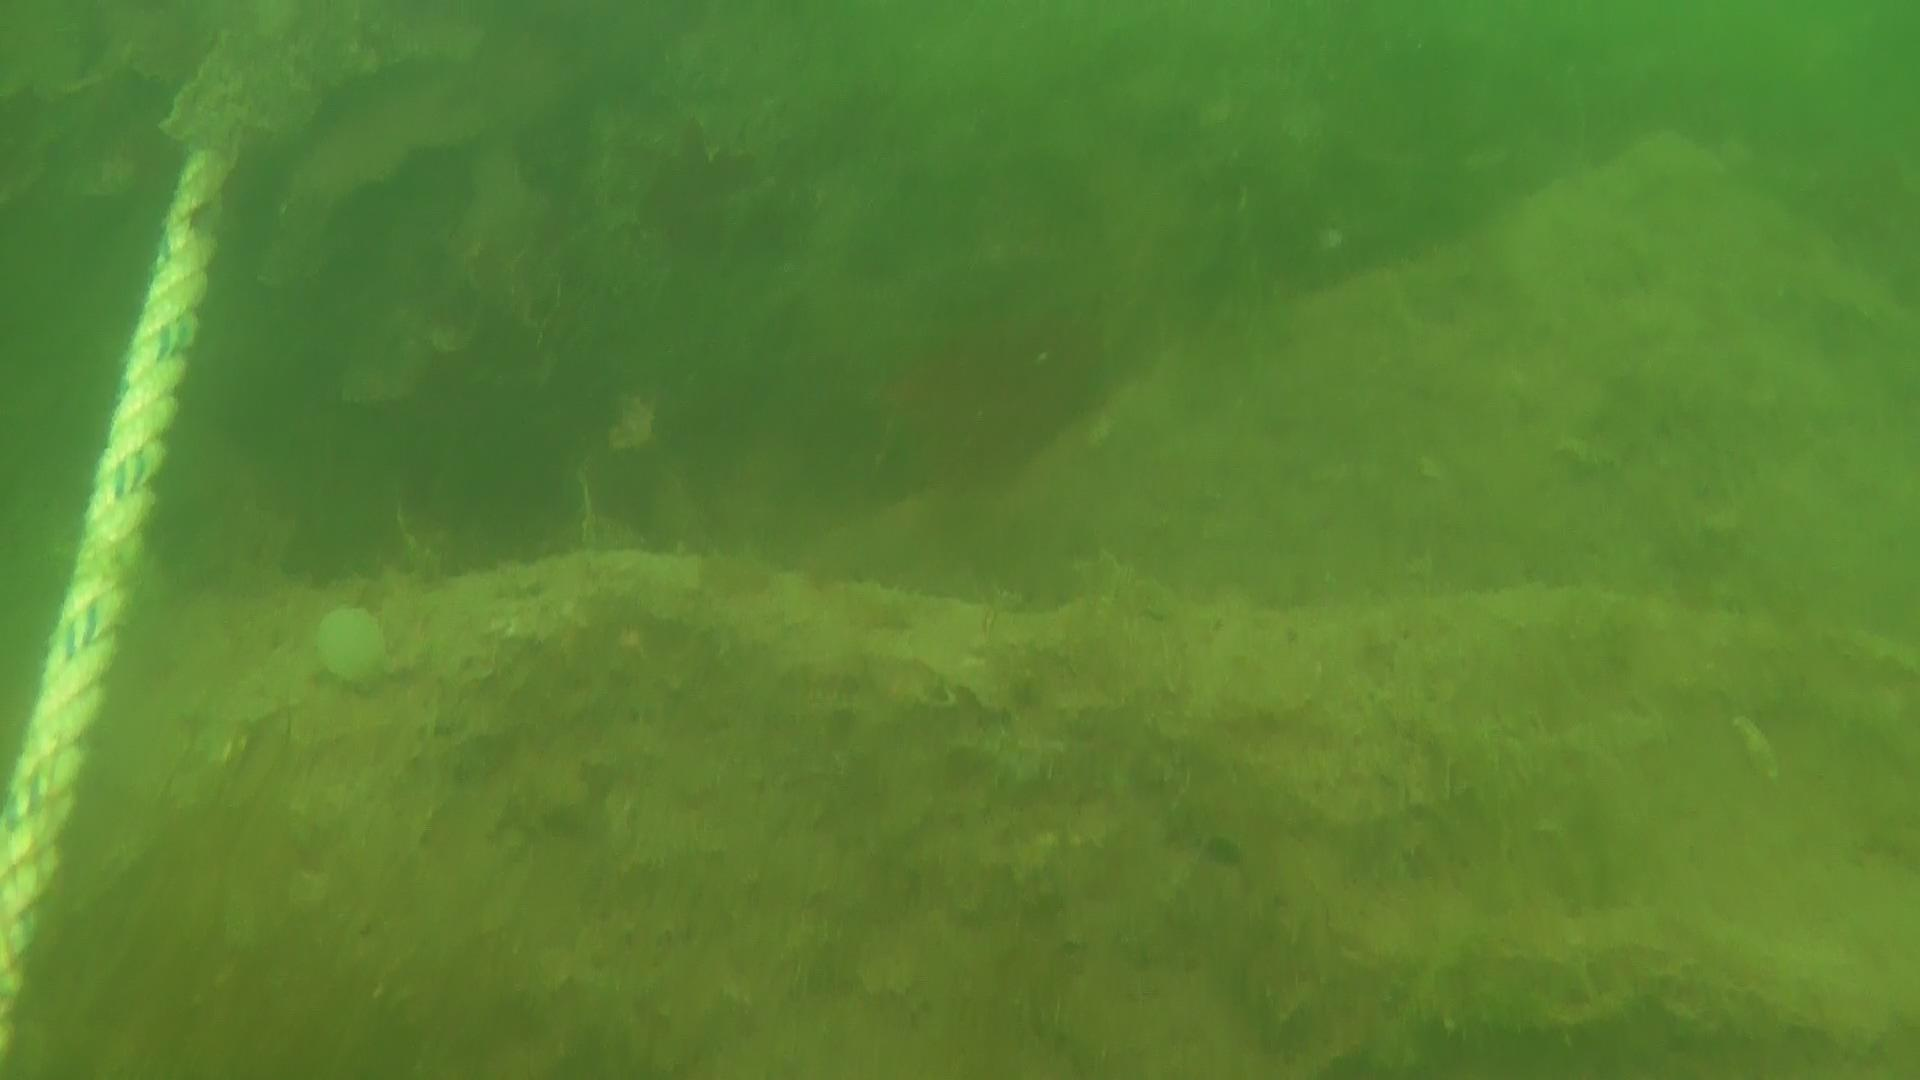rope: (0, 141, 233, 1077)
